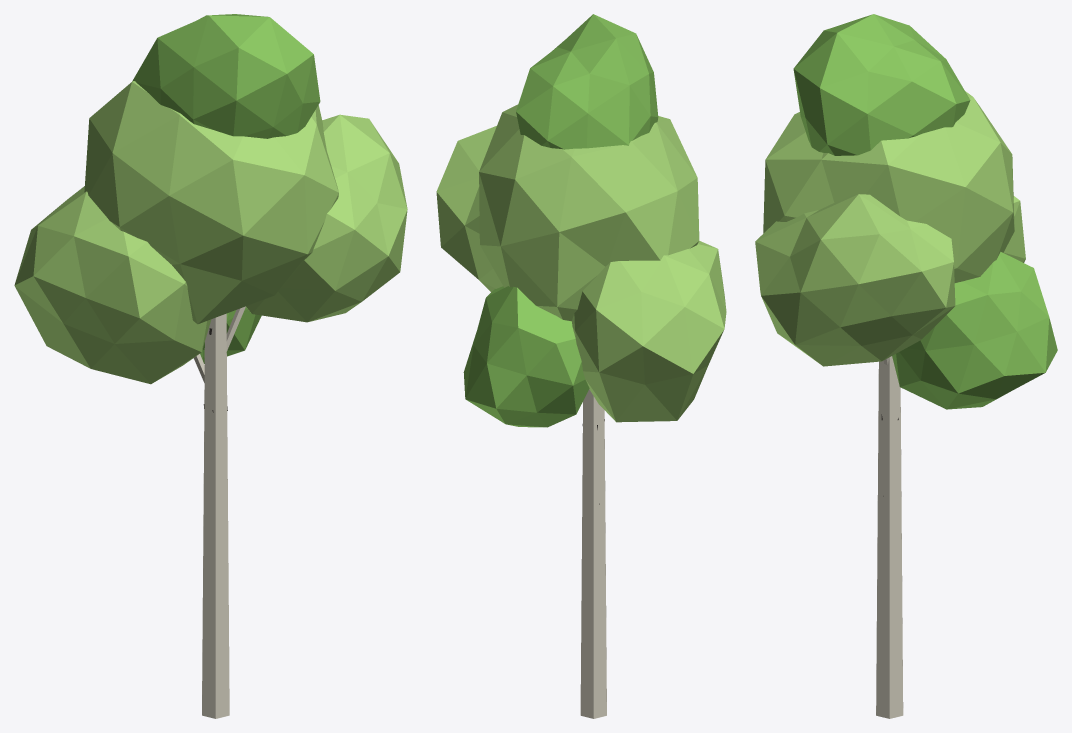
The model's file is birch-c.glb.
3 renders of one model, left to right at view 1: azimuth 30°, elevation 25°; view 2: azimuth 150°, elevation 25°; view 3: azimuth 270°, elevation 25°, orthographic. The views are drawn at different scales.
Visible parts, largest first — view 1: tree; view 2: tree; view 3: tree.
Boxes of the visible parts, box(x1,y1,x2,y2) form: tree: box(14, 14, 407, 718); tree: box(436, 14, 726, 718); tree: box(755, 14, 1057, 718).
Size of the model in its own units: 3.31 by 6.83 by 2.71.
